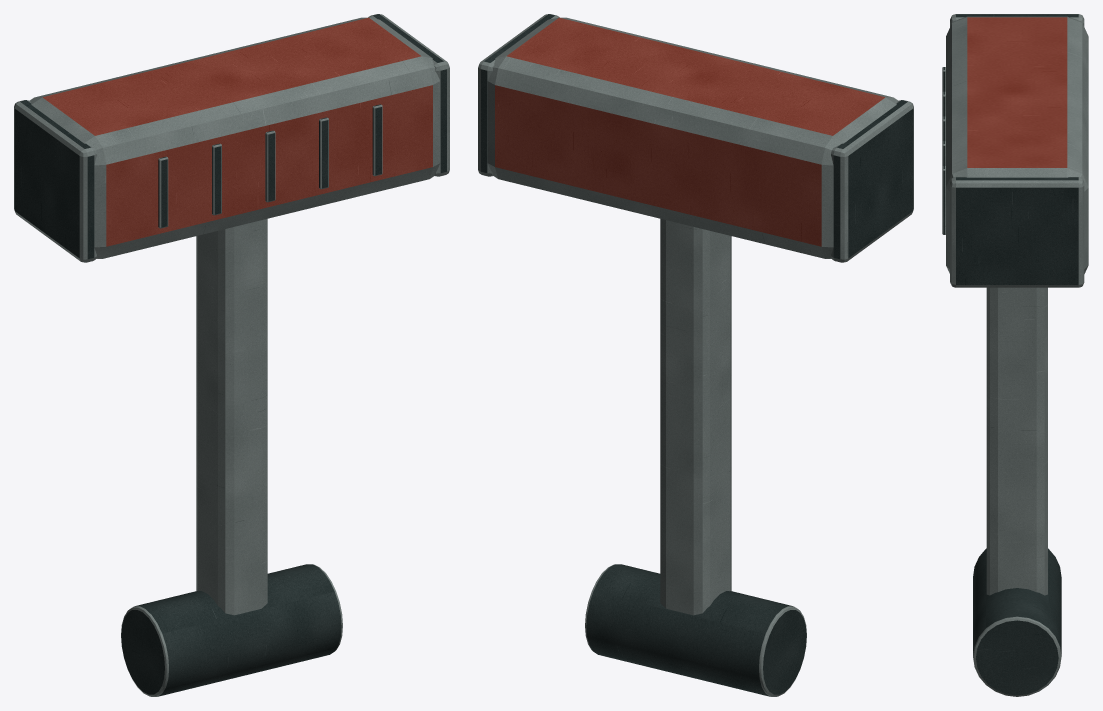
Rendered from MAIN_Handle.fbx.
The picture shows the model from 3 angles, left to right: view 1: azimuth 30°, elevation 25°; view 2: azimuth 150°, elevation 25°; view 3: azimuth 270°, elevation 25°; orthographic projection. The views are drawn at different scales.
Visible parts, largest first — view 1: MAIN_Handle__Visual; view 2: MAIN_Handle__Visual; view 3: MAIN_Handle__Visual.
Part boxes in pixels (x1,y1,x2,y2): MAIN_Handle__Visual: [14, 14, 449, 696]; MAIN_Handle__Visual: [478, 14, 913, 696]; MAIN_Handle__Visual: [942, 14, 1088, 696].
Size of the model in its own units: 0.283 by 0.436 by 0.1025.
